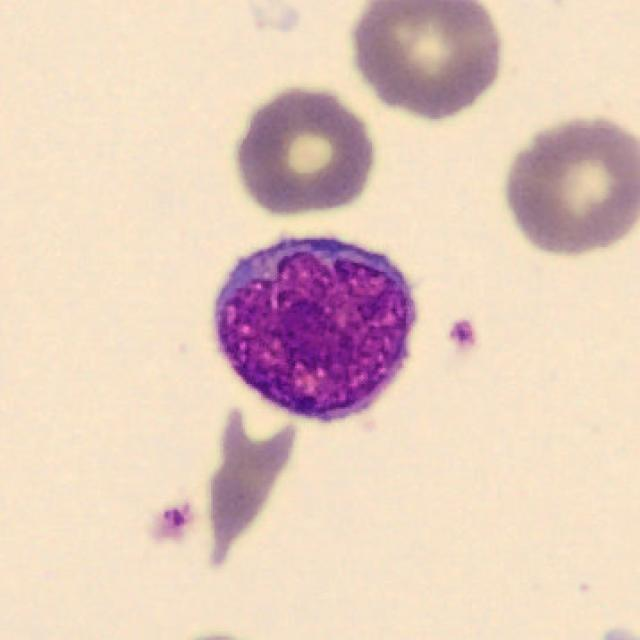Linfocito: (213, 238, 418, 425)
